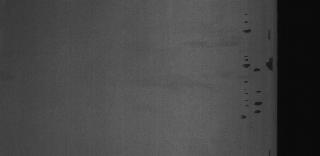oil spot: (248, 90, 266, 120), (238, 84, 252, 120), (240, 14, 258, 36), (238, 54, 256, 70), (262, 53, 276, 71), (266, 24, 272, 42), (266, 146, 272, 156)
